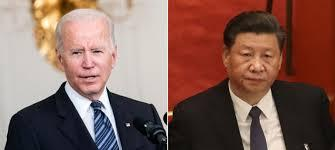Persons: (49, 10, 127, 99), (220, 8, 292, 101)
